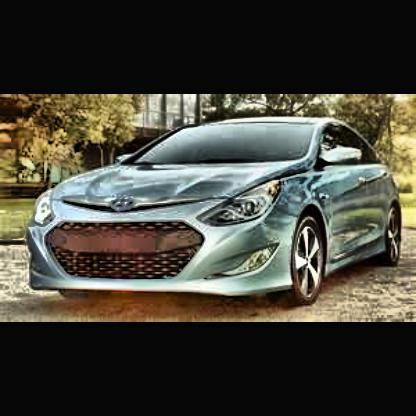Hyundai Sonata Hybrid Sedan 2012: (31, 118, 405, 307)
